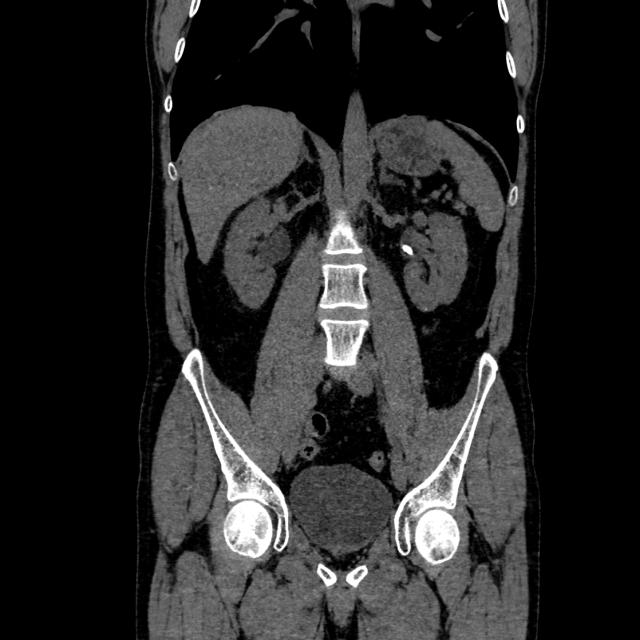kidney: (221, 192, 295, 315), (395, 209, 468, 316)
stone: (402, 239, 416, 258)
